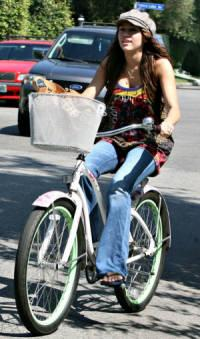person: (68, 5, 182, 288)
